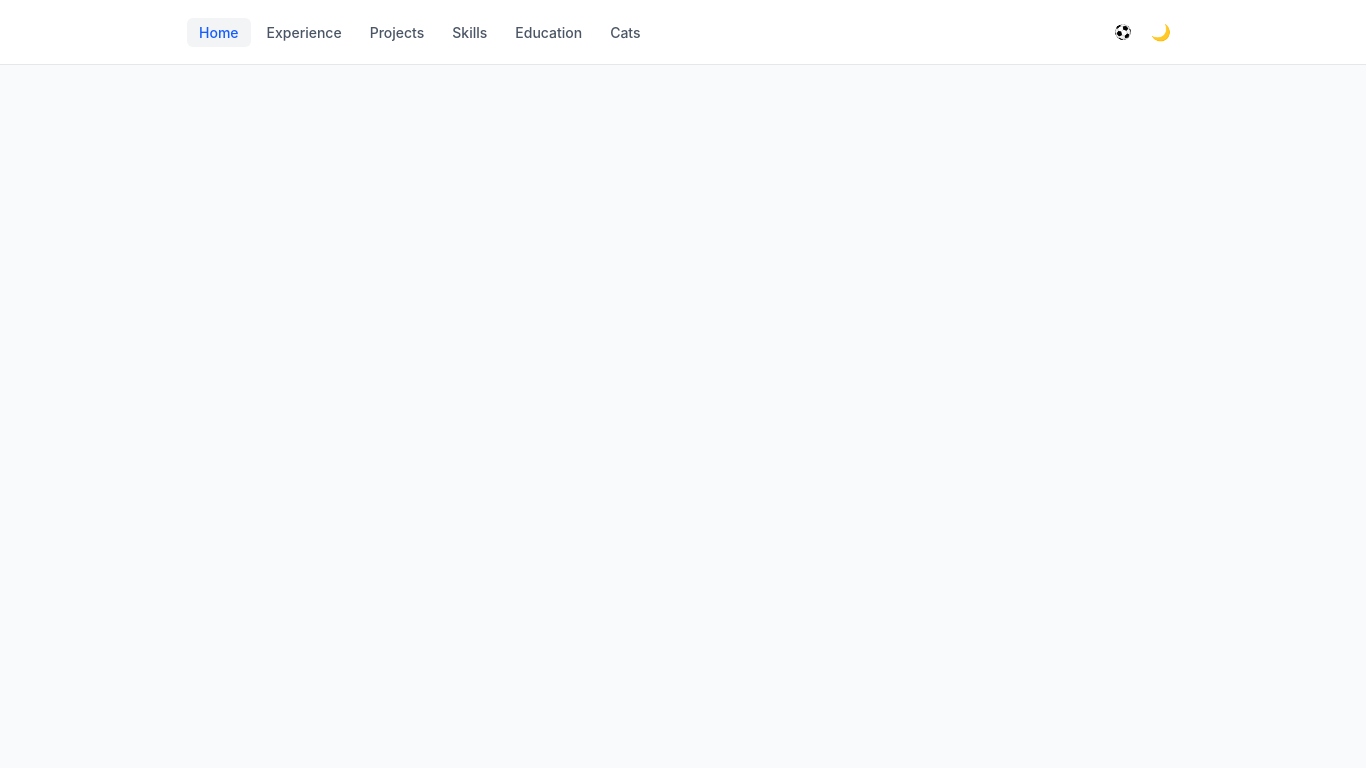
Test: Soccer game › closes soccer game via ESC button
What coordinates should you click on to do the following:
click the button named "Play soccer juggling game"
I would click on:
 (1123, 32)
Its box is [1107,16,1139,48].
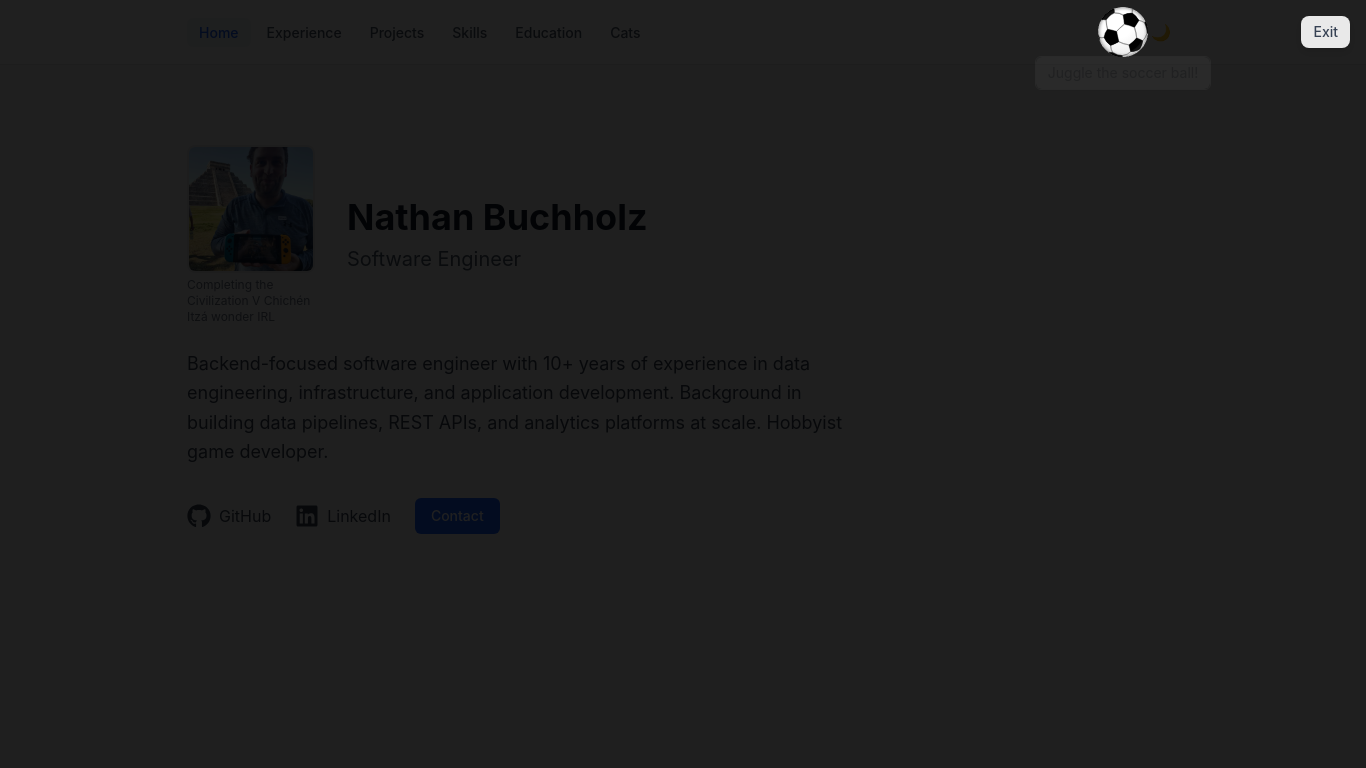
Now the element with class "inset-0" showing "Exit" is shown
What coordinates should you click on to do the following:
click the button with aria-label "Close game"
I would click on:
 (1327, 32)
Its box is [1302,16,1351,48].
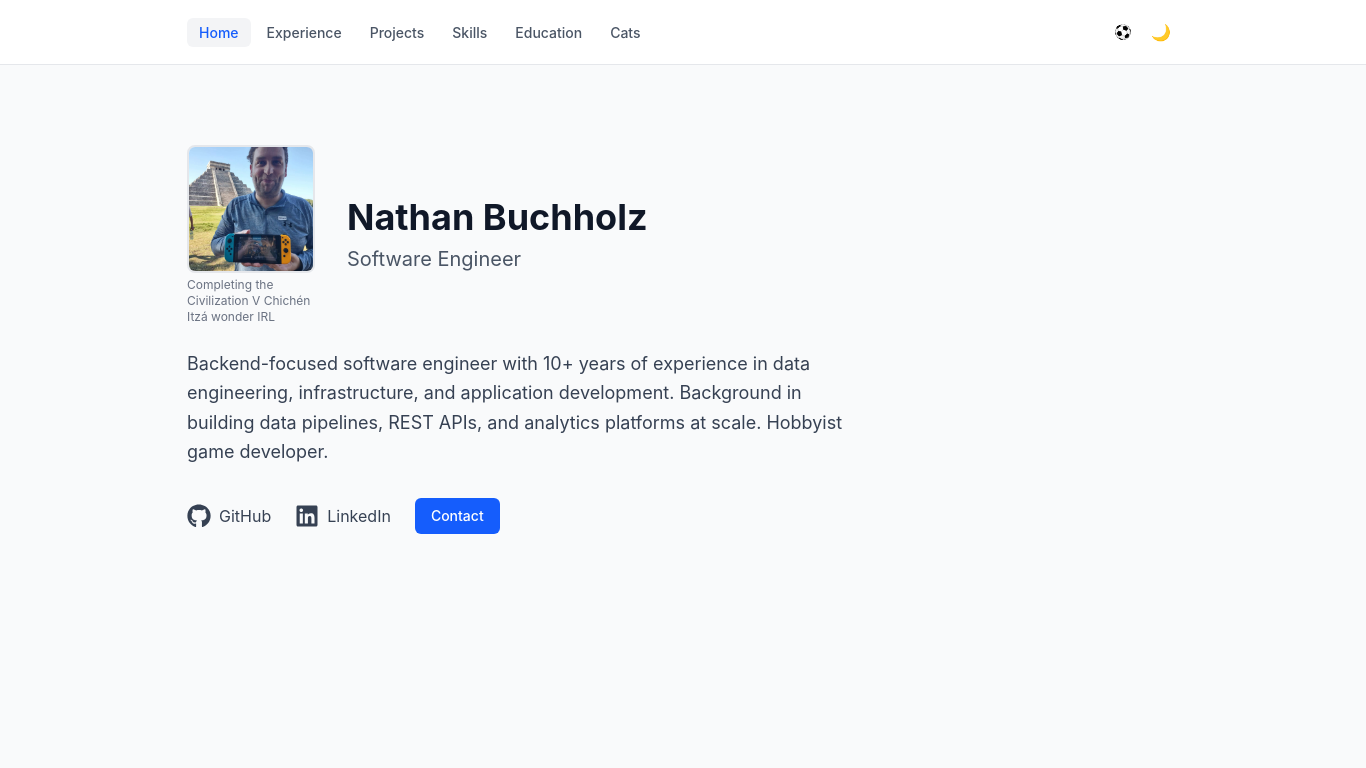
Now the element with class "inset-0" is gone
